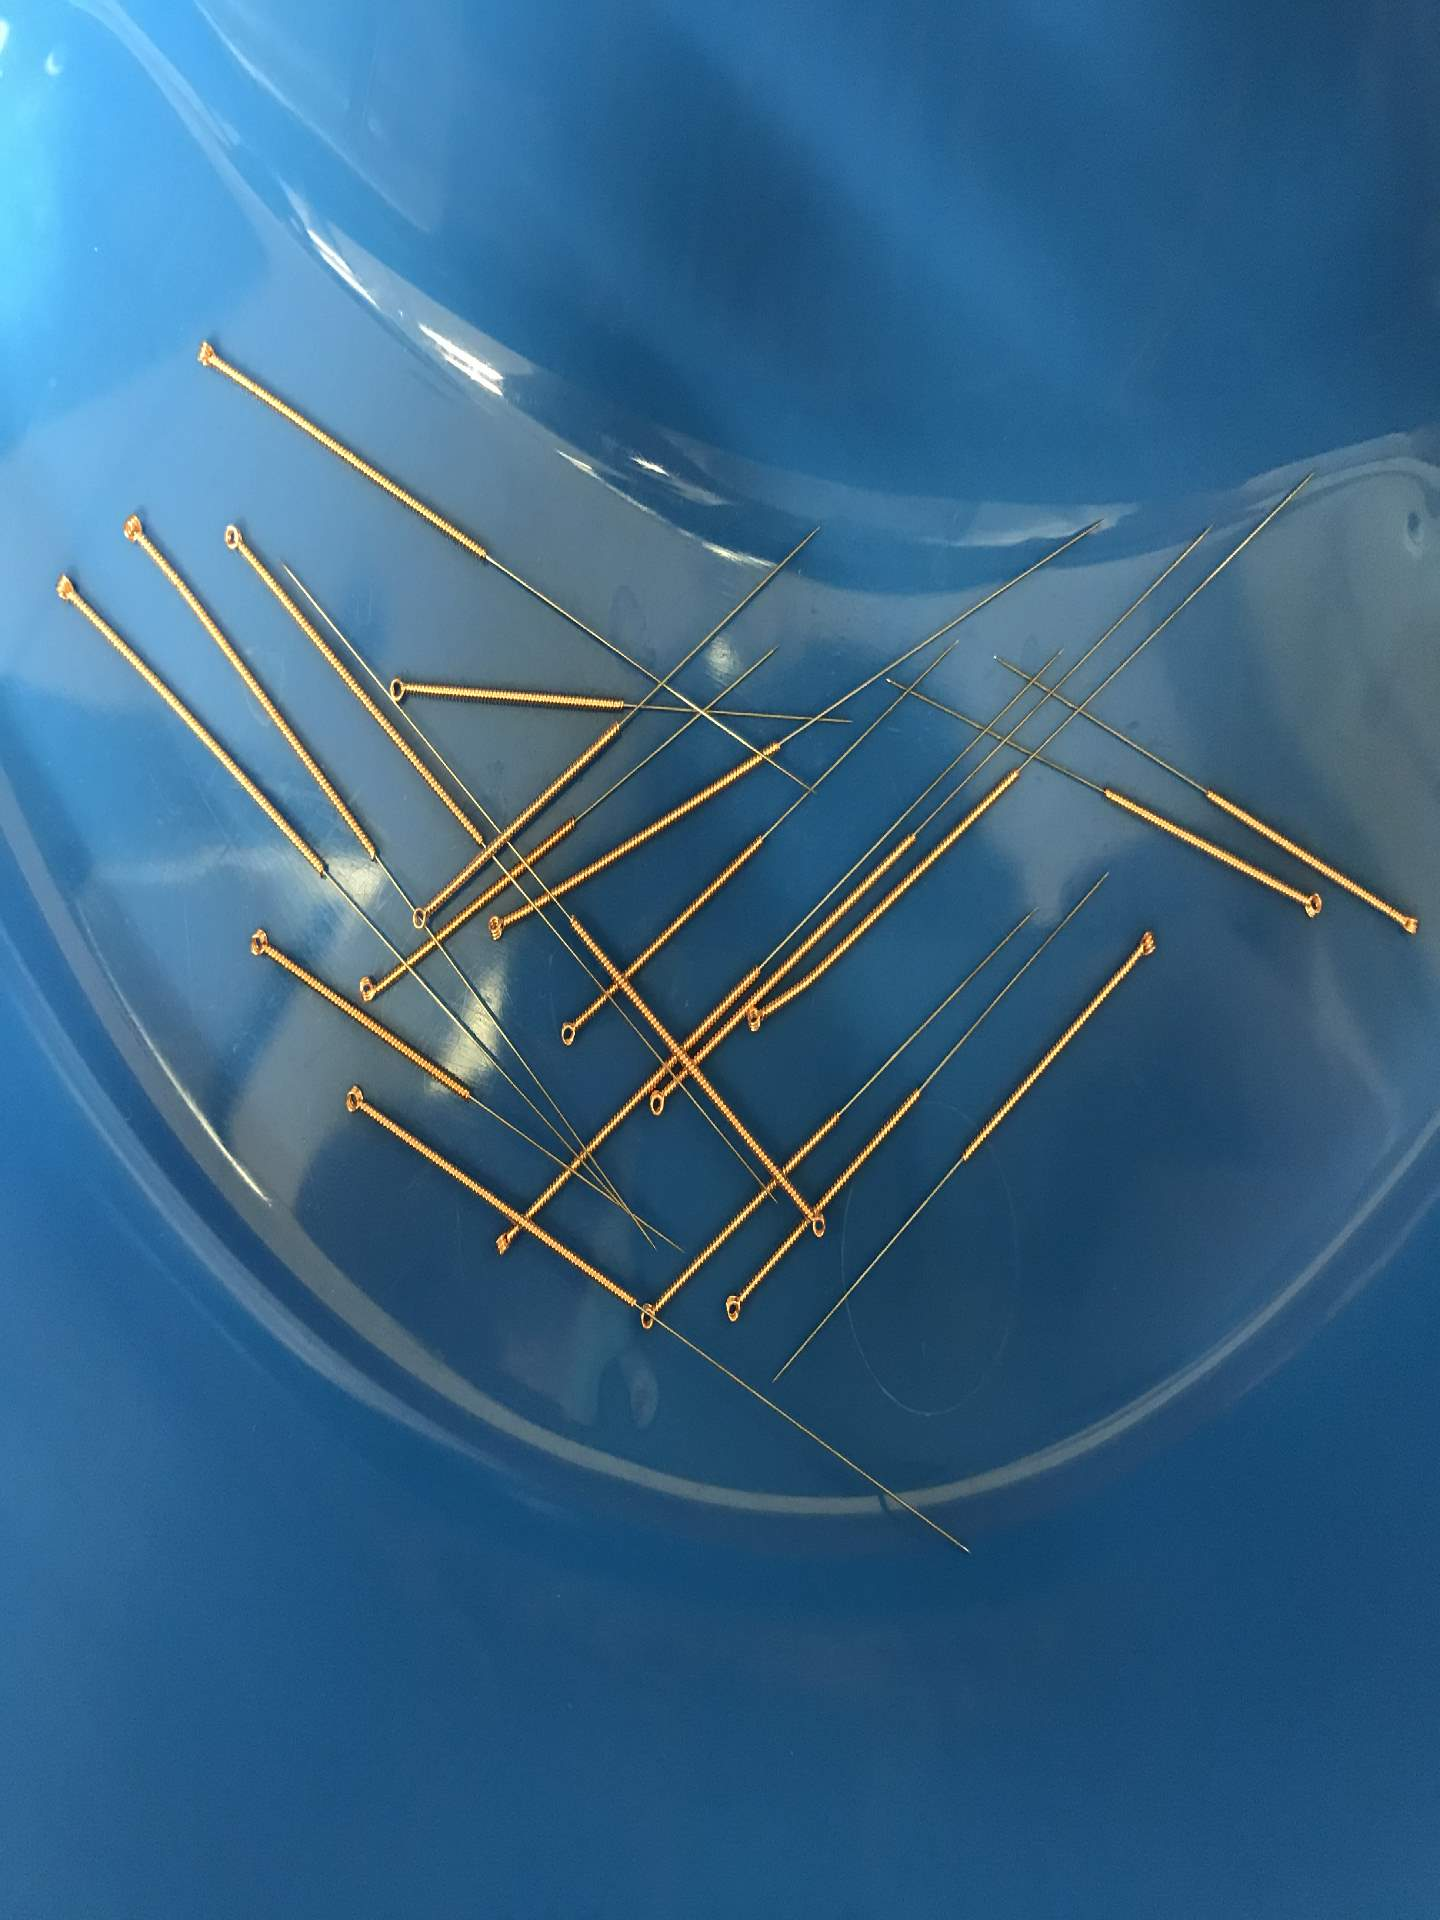needle: (1122, 916, 1165, 972), (188, 333, 231, 379), (45, 564, 86, 614), (116, 503, 154, 556), (213, 516, 253, 565), (239, 922, 280, 965), (336, 1078, 378, 1119), (1293, 881, 1331, 927), (717, 1285, 753, 1330), (552, 1011, 588, 1054), (634, 1297, 672, 1336), (1390, 904, 1426, 943), (351, 968, 386, 1008), (486, 1222, 520, 1262), (479, 907, 514, 946), (383, 670, 417, 708), (644, 1084, 676, 1123), (744, 1002, 777, 1039), (404, 900, 437, 934), (806, 1206, 833, 1243)
